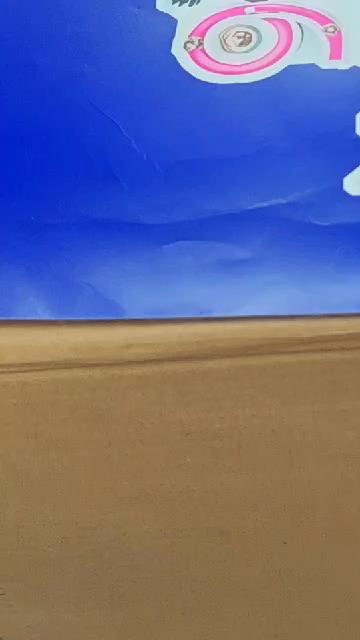B_R1: (157, 0, 360, 247)
